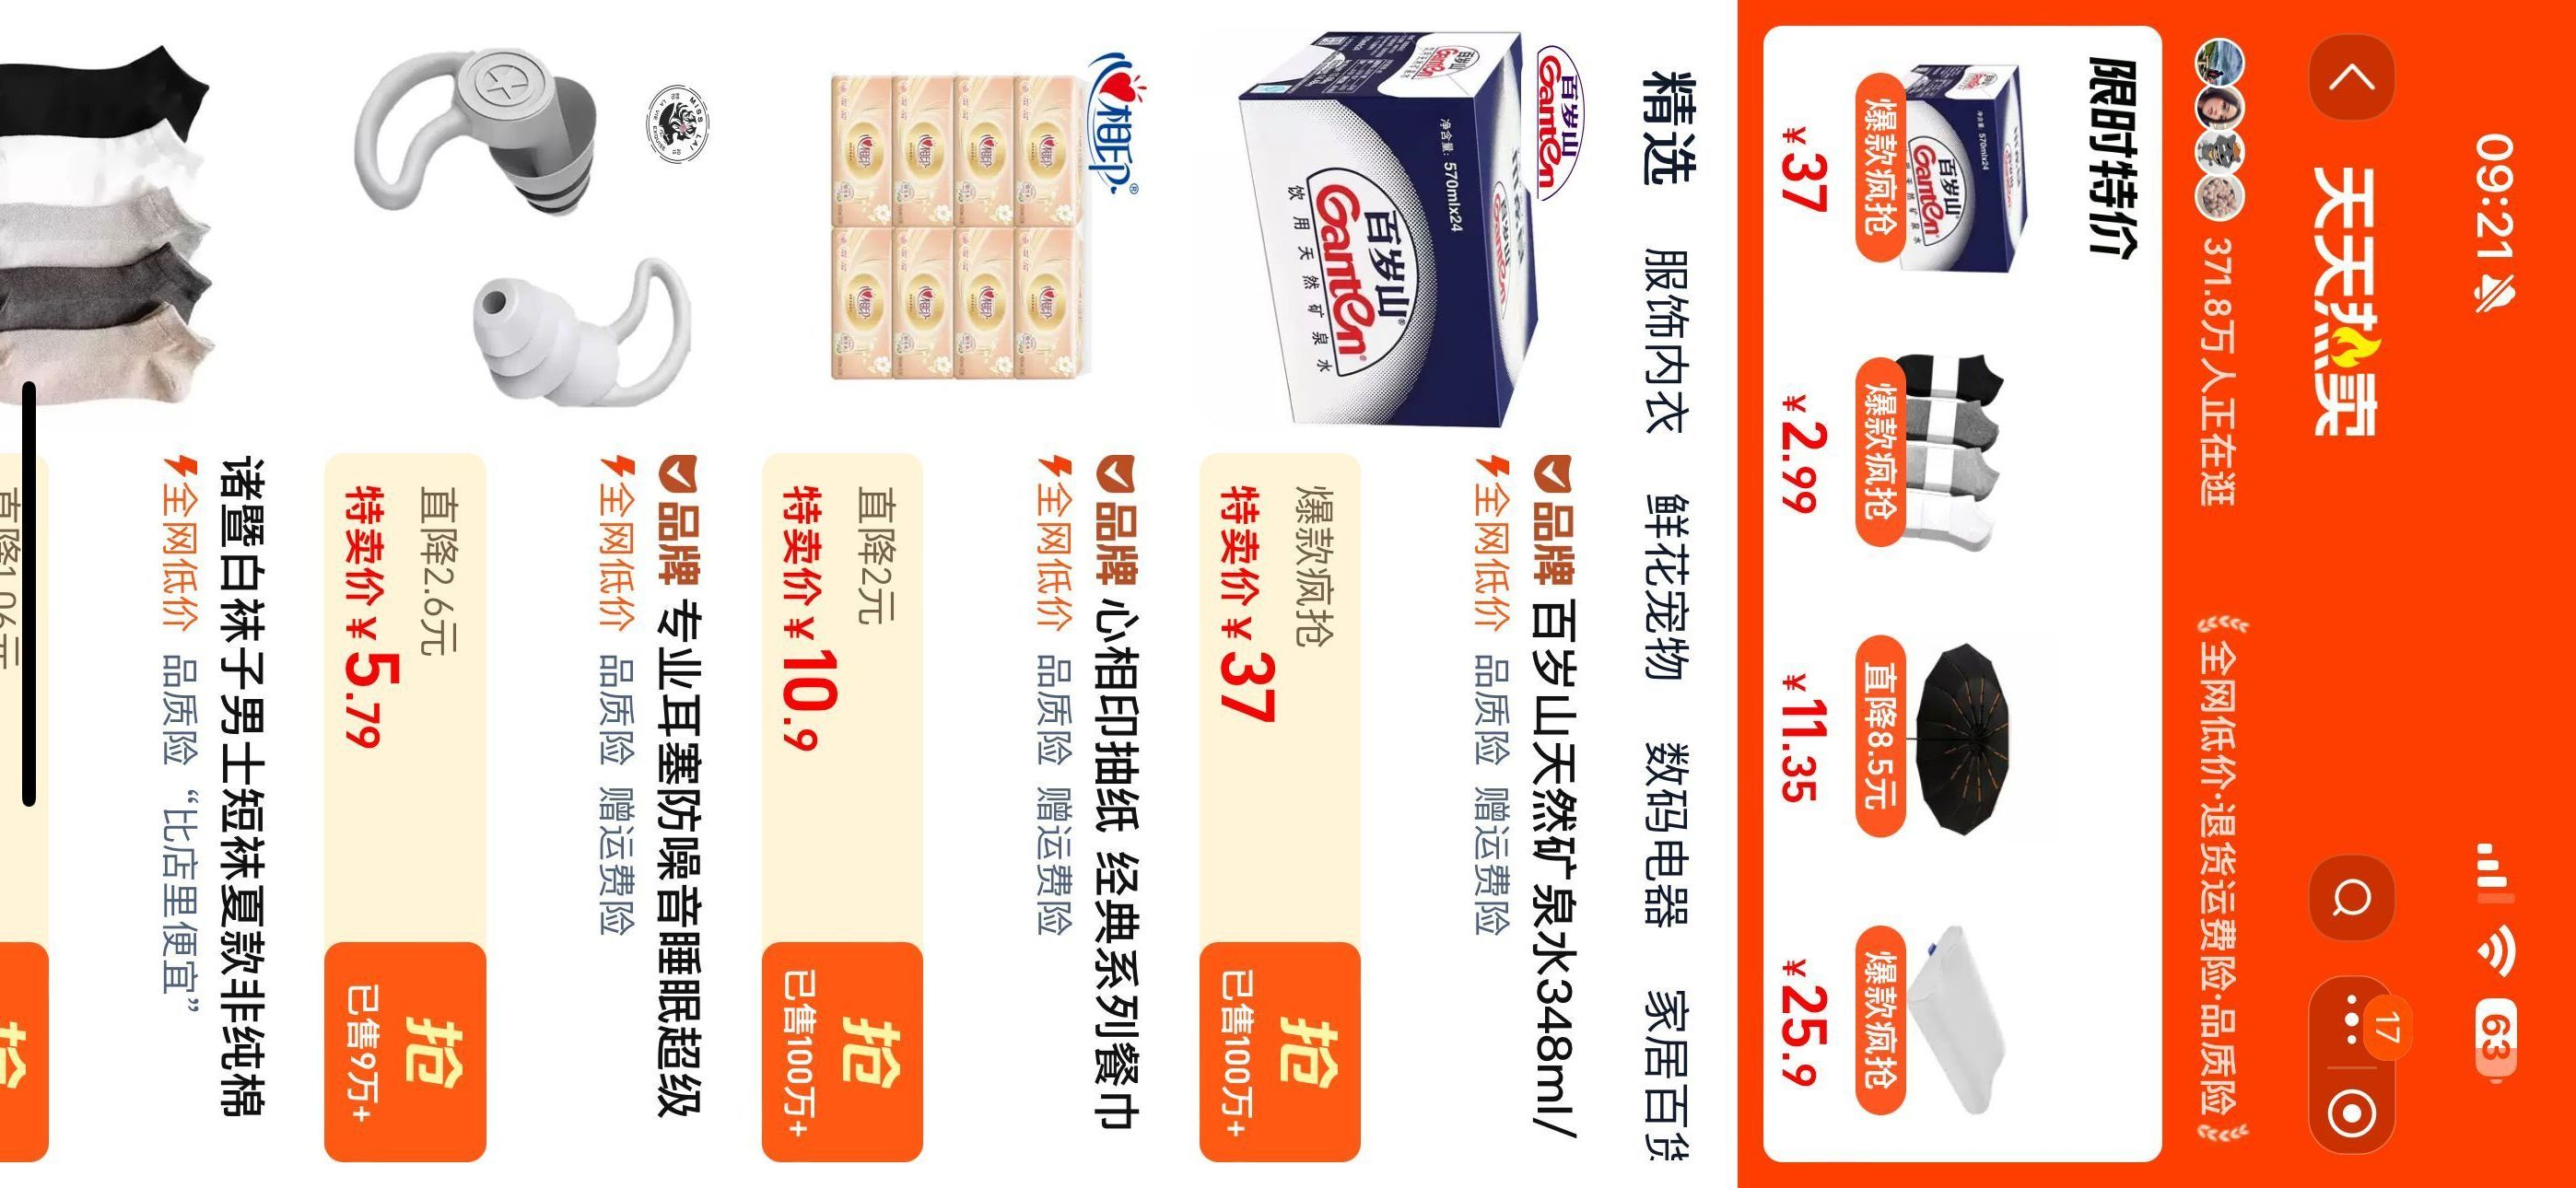item: (294, 10, 736, 1188), (1188, 2, 1607, 1188), (759, 3, 1178, 1188)
op_bar: (2287, 5, 2422, 1178)
seckill: (1756, 10, 2178, 1185)
